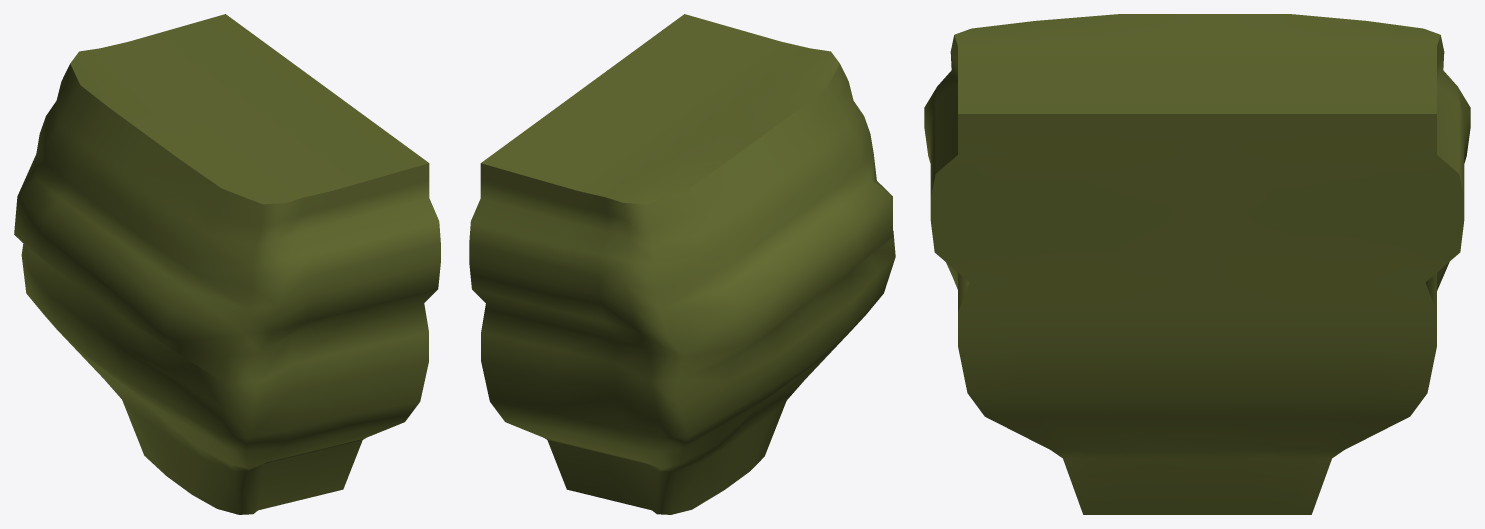
Rendered from City waterfall ground.fbx.
3 renders of one model, left to right at view 1: azimuth 30°, elevation 25°; view 2: azimuth 150°, elevation 25°; view 3: azimuth 270°, elevation 25°, orthographic. The views are drawn at different scales.
Visible parts, largest first — view 1: ground_under_statue:Ground_under_statue; view 2: ground_under_statue:Ground_under_statue; view 3: ground_under_statue:Ground_under_statue.
Part boxes in pixels (left/top/right/bottom): ground_under_statue:Ground_under_statue: left=14, top=14, right=440, bottom=514; ground_under_statue:Ground_under_statue: left=469, top=14, right=895, bottom=514; ground_under_statue:Ground_under_statue: left=924, top=14, right=1470, bottom=514.
Bounding box in the file's own units: 4.37 × 6.04 × 7.1.
